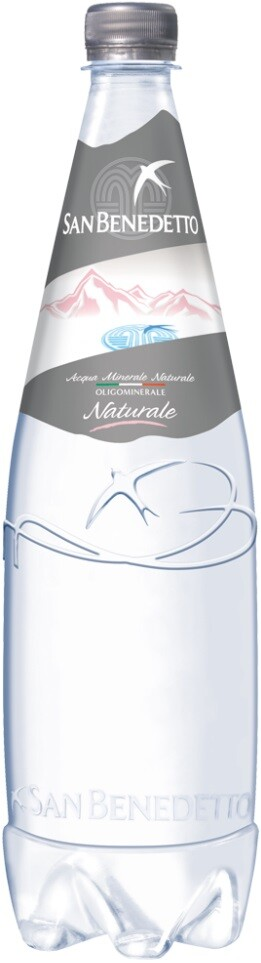plasticBottle: (8, 8, 259, 962)
